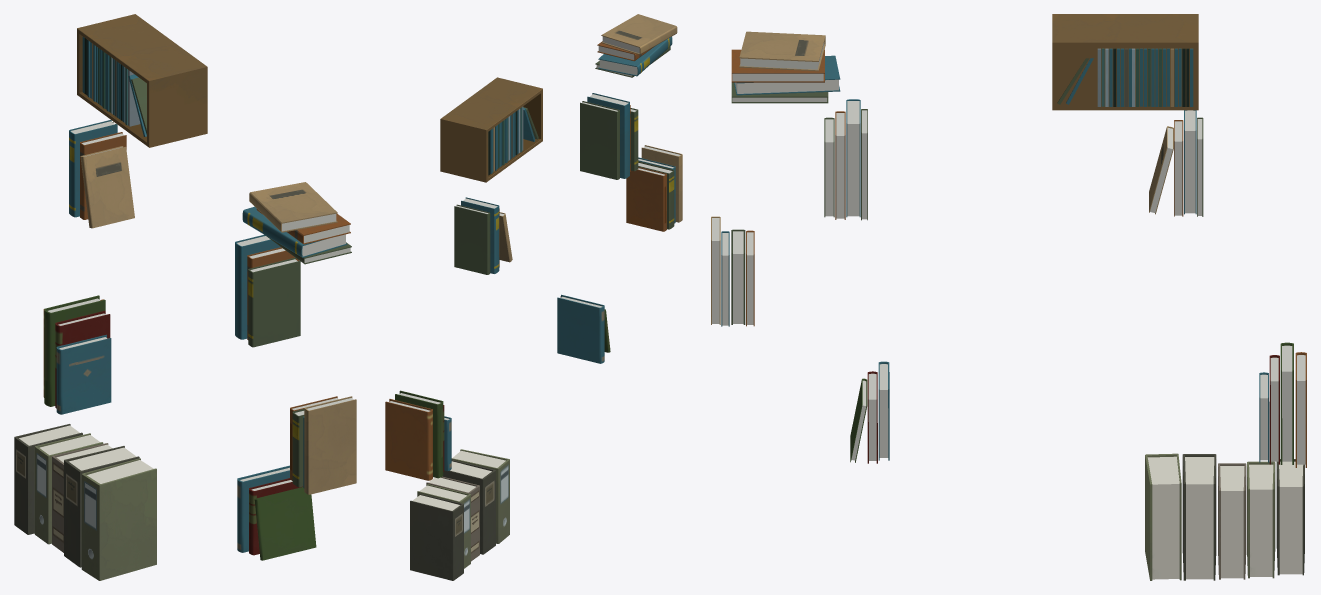
The picture shows the model from 3 angles, left to right: view 1: azimuth 30°, elevation 25°; view 2: azimuth 150°, elevation 25°; view 3: azimuth 270°, elevation 25°; orthographic projection. The views are drawn at different scales.
Visible parts, largest first — view 1: polySurface59886_Books01_0; view 2: polySurface59886_Books01_0; view 3: polySurface59886_Books01_0.
Boxes of the visible parts, x1,y1,x2,y2 form: polySurface59886_Books01_0: [14, 14, 356, 580]; polySurface59886_Books01_0: [385, 14, 682, 580]; polySurface59886_Books01_0: [711, 14, 1306, 580].
Size of the model in its own units: 361 by 1949 by 1951.
